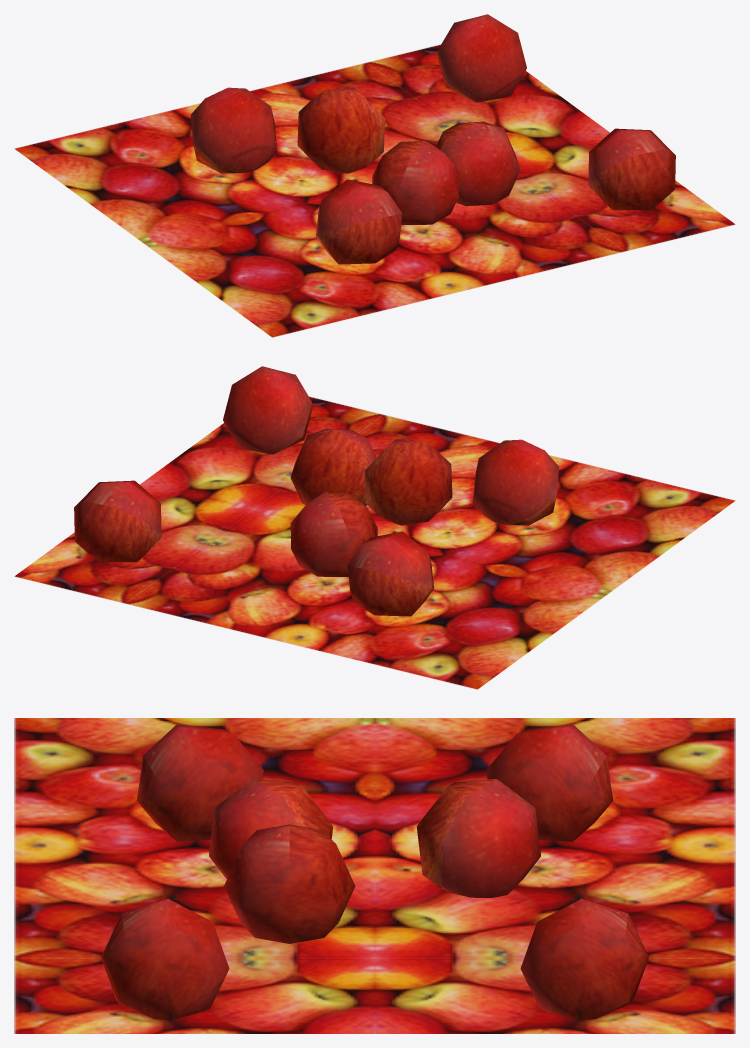
File: apple.FBX
3 renders of one model, top to bottom at view 1: azimuth 30°, elevation 25°; view 2: azimuth 150°, elevation 25°; view 3: azimuth 270°, elevation 25°, orthographic. The views are drawn at different scales.
Parts seen in each view (by area): view 1: apple; view 2: apple; view 3: apple.
Part boxes in pixels (x1,y1,x2,y2): apple: (14,14,735,337); apple: (14,366,735,689); apple: (14,718,735,1033).
Size of the model in its own units: 195 by 189 by 34.41.
